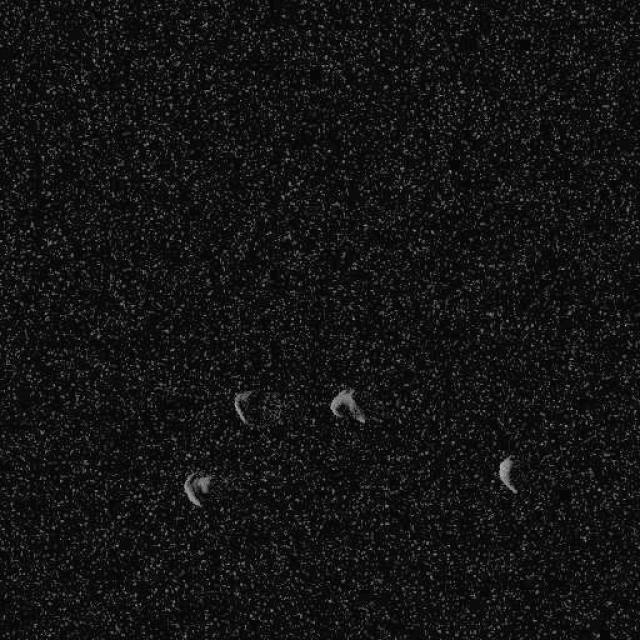D2: (232, 386, 282, 430), (328, 386, 367, 424), (182, 470, 212, 508), (497, 454, 518, 494)
